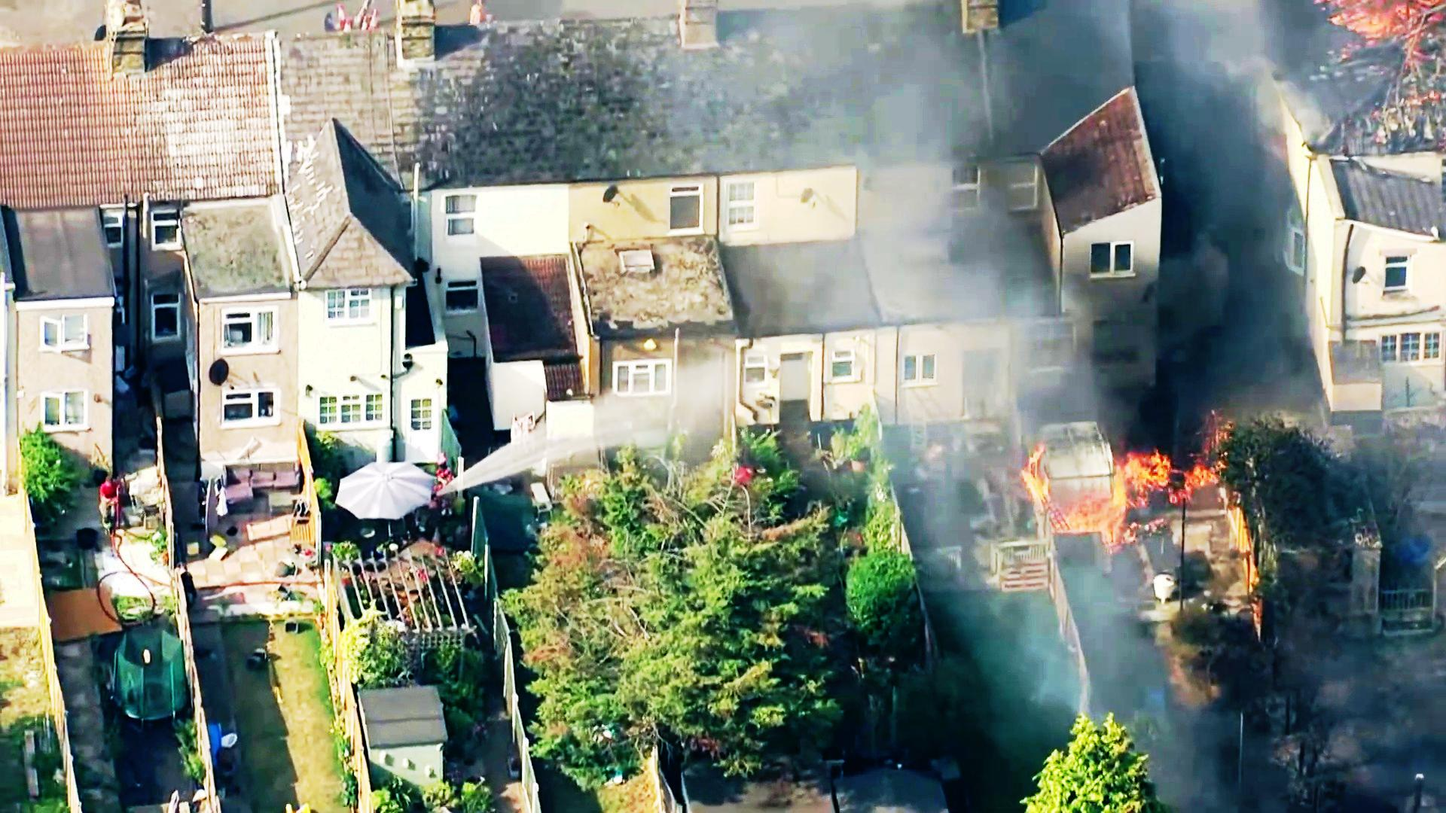fire: (1013, 424, 1240, 560)
